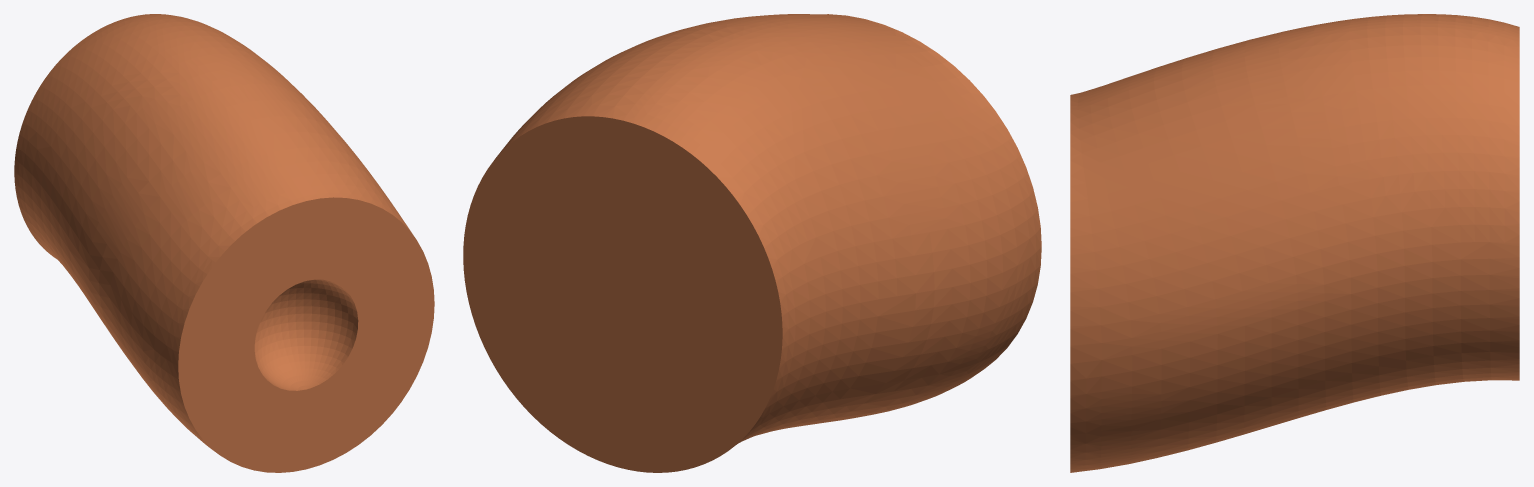
Rendered from r-clavicle.dae.
3 views of the same model, side by side, from view 1: azimuth 30°, elevation 25°; view 2: azimuth 150°, elevation 25°; view 3: azimuth 270°, elevation 25° (orthographic). The views are drawn at different scales.
Visible parts, largest first — view 1: polySurface1; view 2: polySurface1; view 3: polySurface1.
Part boxes in pixels (bbox=[...]): polySurface1: bbox=[14, 14, 434, 472]; polySurface1: bbox=[463, 14, 1041, 472]; polySurface1: bbox=[1070, 14, 1519, 472].
Size of the model in its own units: 0.1036 by 0.1237 by 0.1176.
